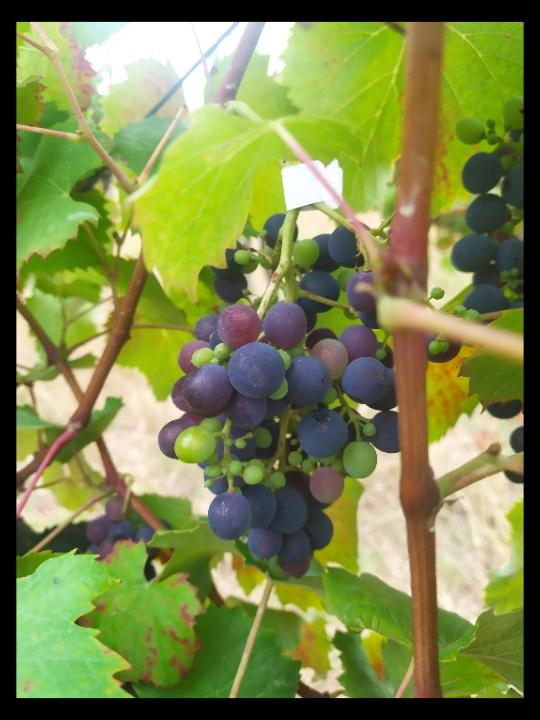grape: (155, 211, 401, 582)
